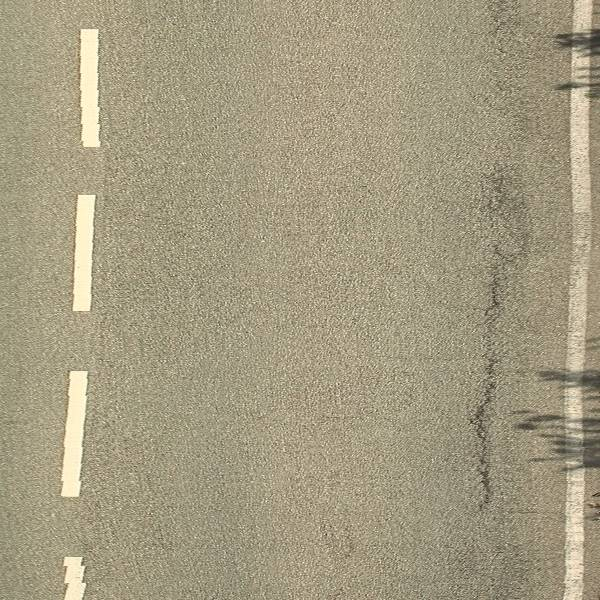road_damage: (463, 258, 515, 513)
